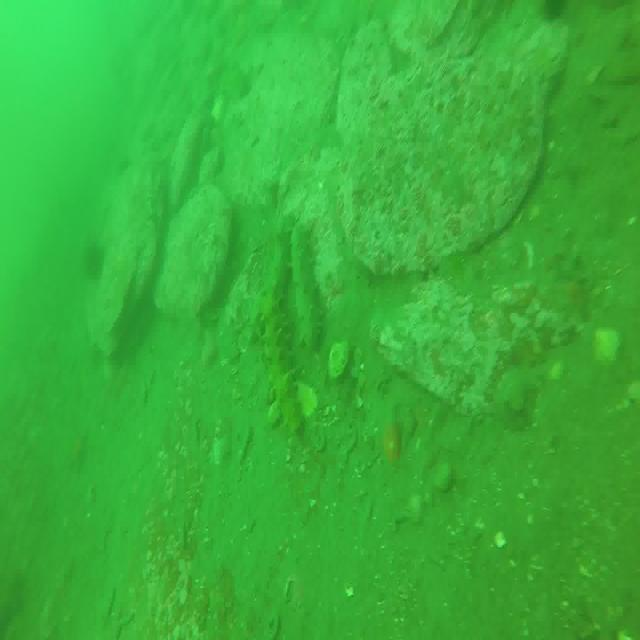echinus: (86, 243, 106, 281)
holothurian: (259, 296, 306, 433), (252, 214, 296, 342), (289, 230, 327, 350)
